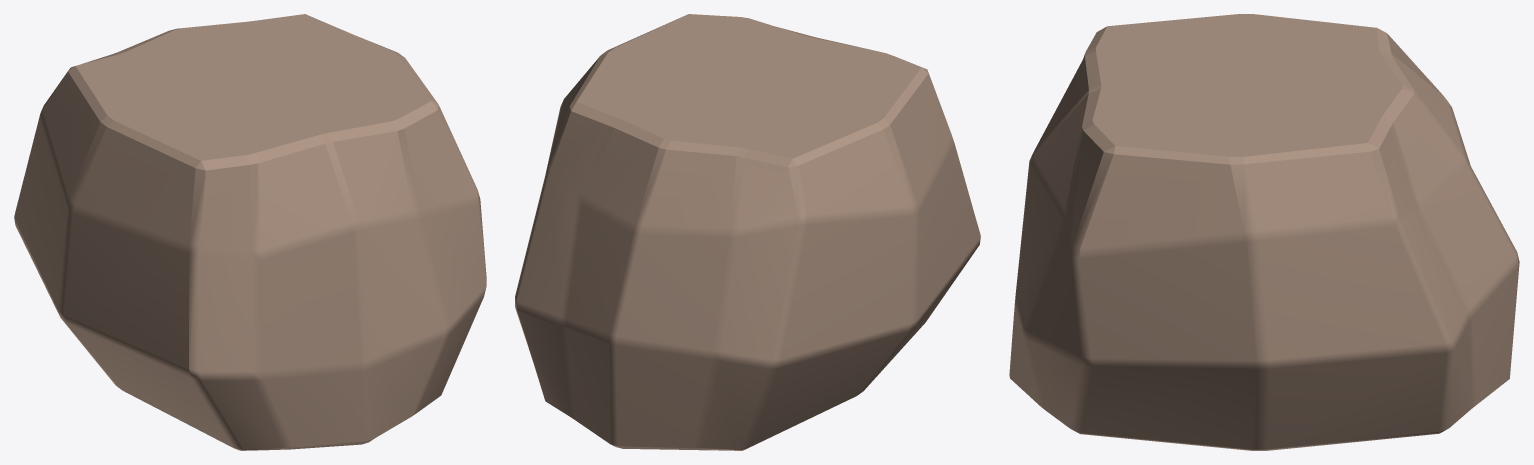
Rendered from Stone1.75_1.25_2_Colored.fbx.
3 views of the same model, side by side, from view 1: azimuth 30°, elevation 25°; view 2: azimuth 150°, elevation 25°; view 3: azimuth 270°, elevation 25° (orthographic). The views are drawn at different scales.
Visible parts, largest first — view 1: Stone_1_75_1_25_2_Bevel03; view 2: Stone_1_75_1_25_2_Bevel03; view 3: Stone_1_75_1_25_2_Bevel03.
Boxes of the visible parts, x1,y1,x2,y2 form: Stone_1_75_1_25_2_Bevel03: (14, 14, 486, 450); Stone_1_75_1_25_2_Bevel03: (515, 14, 980, 450); Stone_1_75_1_25_2_Bevel03: (1009, 14, 1519, 450).
Bounding box in the file's own units: 171 × 123 × 193.
